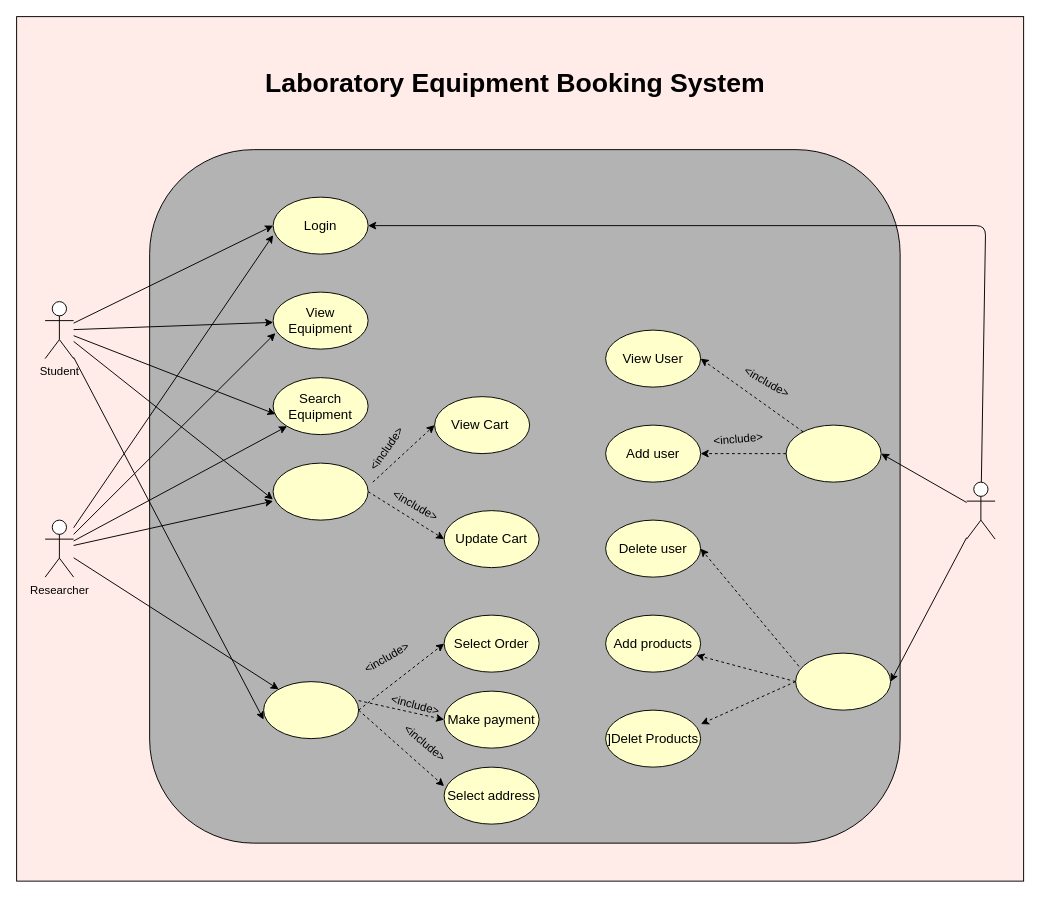
The diagram is 1040 pixels wide and 898 high, and some of its shapes have lost their labels. Here are the shapes that lost their labels. From the top down, the box of each, then its label:
(785, 424, 881, 482): Manage user
(272, 462, 368, 520): Add to cart
(966, 481, 995, 539): Admin
(795, 652, 891, 710): Manage Products
(263, 681, 359, 739): Checkout
